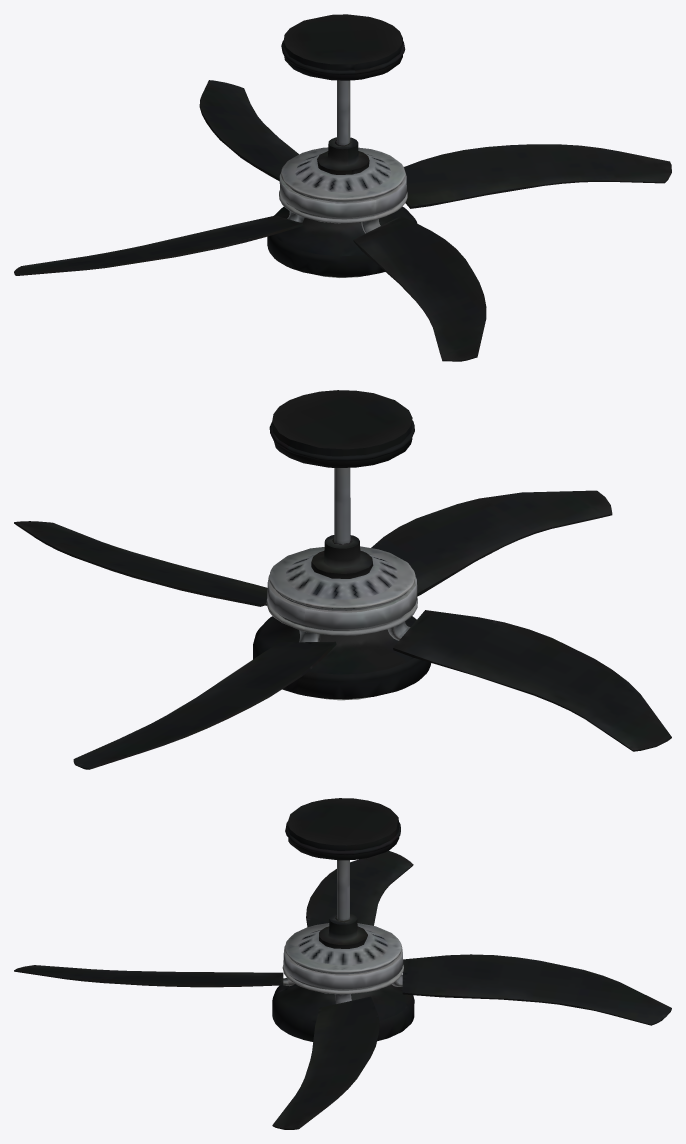
Rendered from fan.glb.
3 views of the same model, one above another, from view 1: azimuth 30°, elevation 25°; view 2: azimuth 150°, elevation 25°; view 3: azimuth 270°, elevation 25° (orthographic). The views are drawn at different scales.
Parts seen in each view (by area): view 1: ceiling_fan; view 2: ceiling_fan; view 3: ceiling_fan.
Part boxes in pixels (<box>): ceiling_fan: <box>14,14,671,361</box>; ceiling_fan: <box>14,390,671,769</box>; ceiling_fan: <box>14,798,671,1129</box>.
Size of the model in its own units: 1.46 by 0.5163 by 1.46.
1 material, 1 textured.
